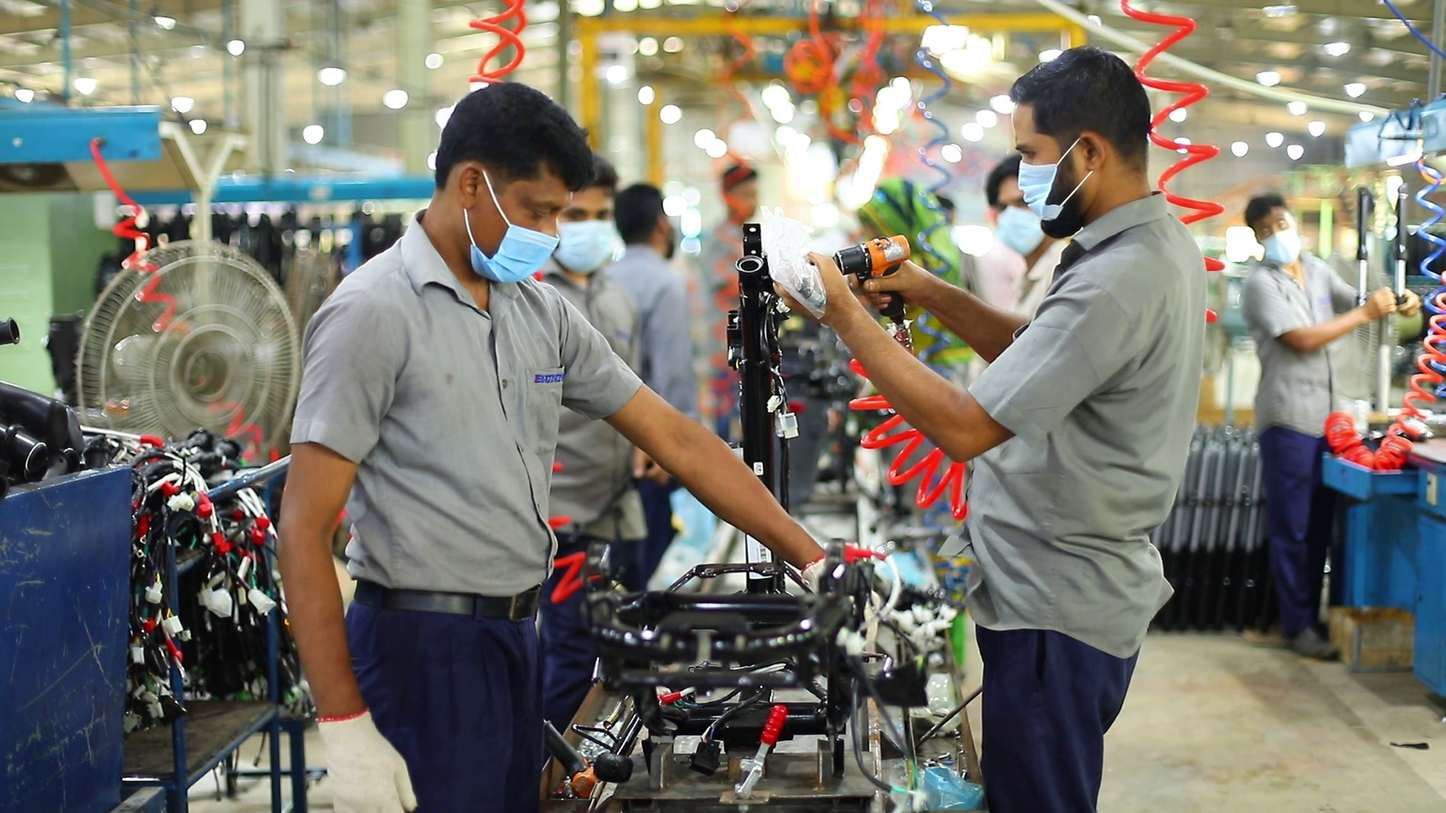mask: (469, 221, 560, 285), (556, 218, 620, 273), (1017, 160, 1066, 221), (993, 206, 1048, 257), (1258, 229, 1304, 265)
person: (275, 83, 844, 813), (767, 45, 1212, 813), (1238, 190, 1423, 657), (539, 159, 657, 723), (602, 183, 700, 422), (984, 154, 1070, 318)
